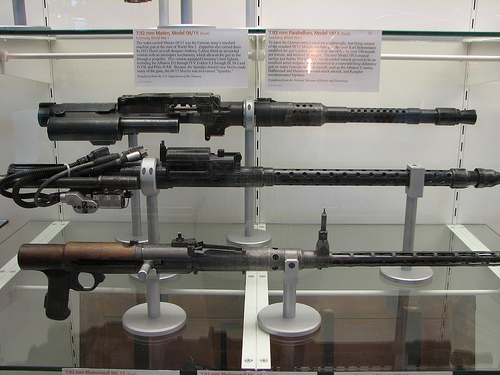rifle: (2, 242, 498, 317), (1, 152, 488, 221), (11, 81, 496, 145)
